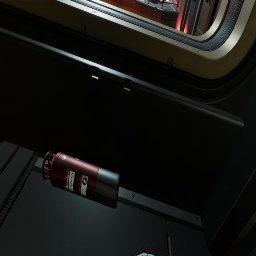NitrogenTank ,: (42, 151, 120, 209)
